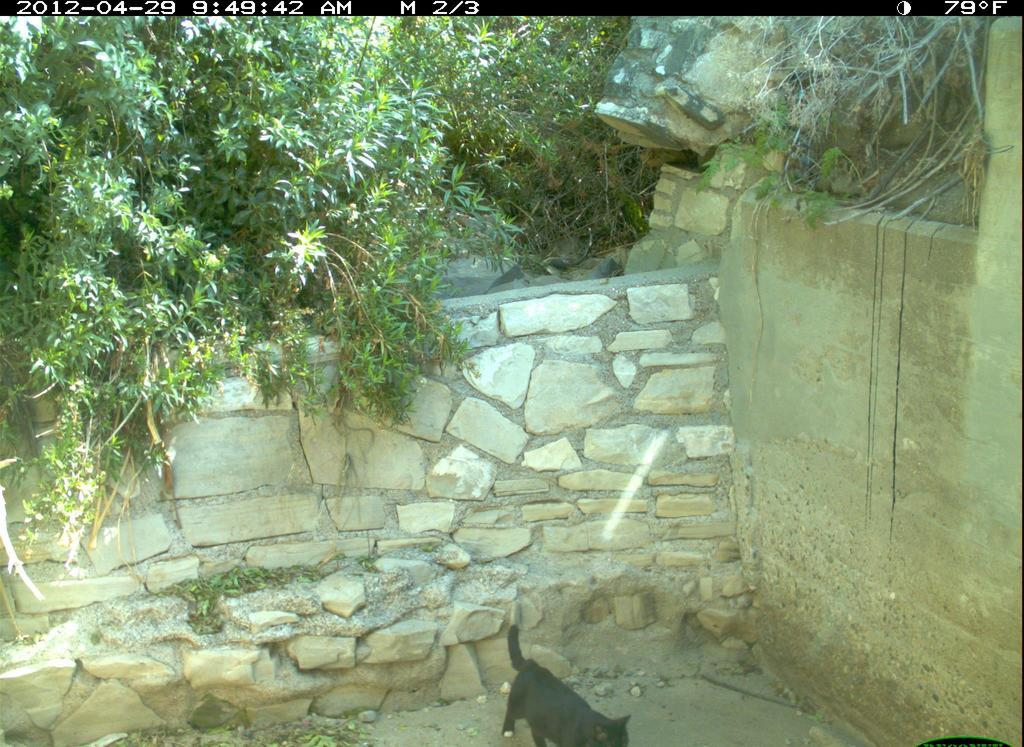cat: (493, 611, 652, 745)
